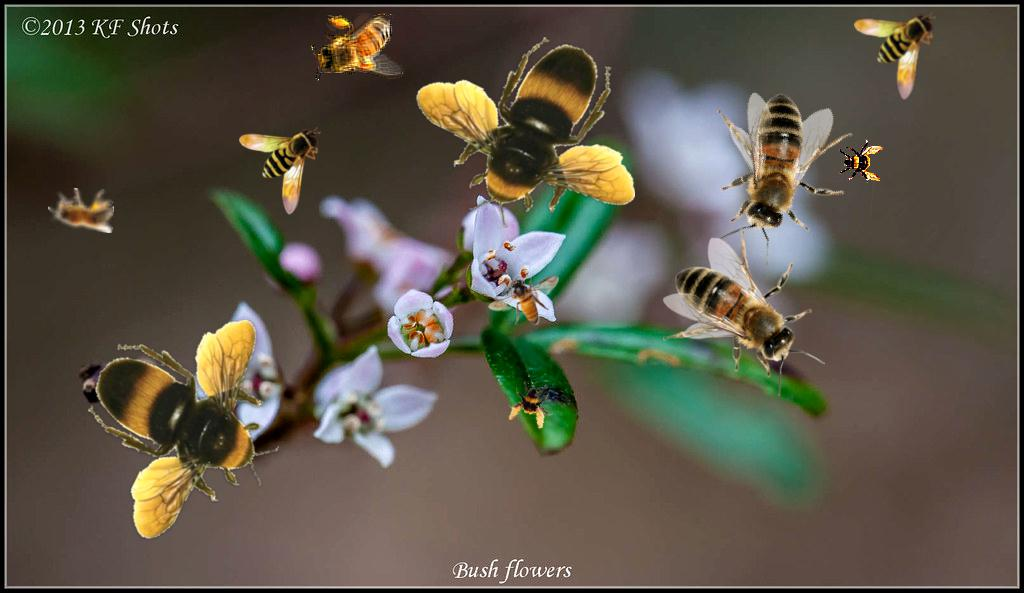Bee: (666, 61, 889, 281), (88, 320, 279, 540), (415, 37, 635, 228), (663, 229, 825, 396), (854, 12, 936, 100), (239, 127, 321, 215), (311, 13, 404, 81), (488, 275, 559, 325), (48, 188, 114, 233), (505, 378, 559, 432), (839, 139, 883, 183)
